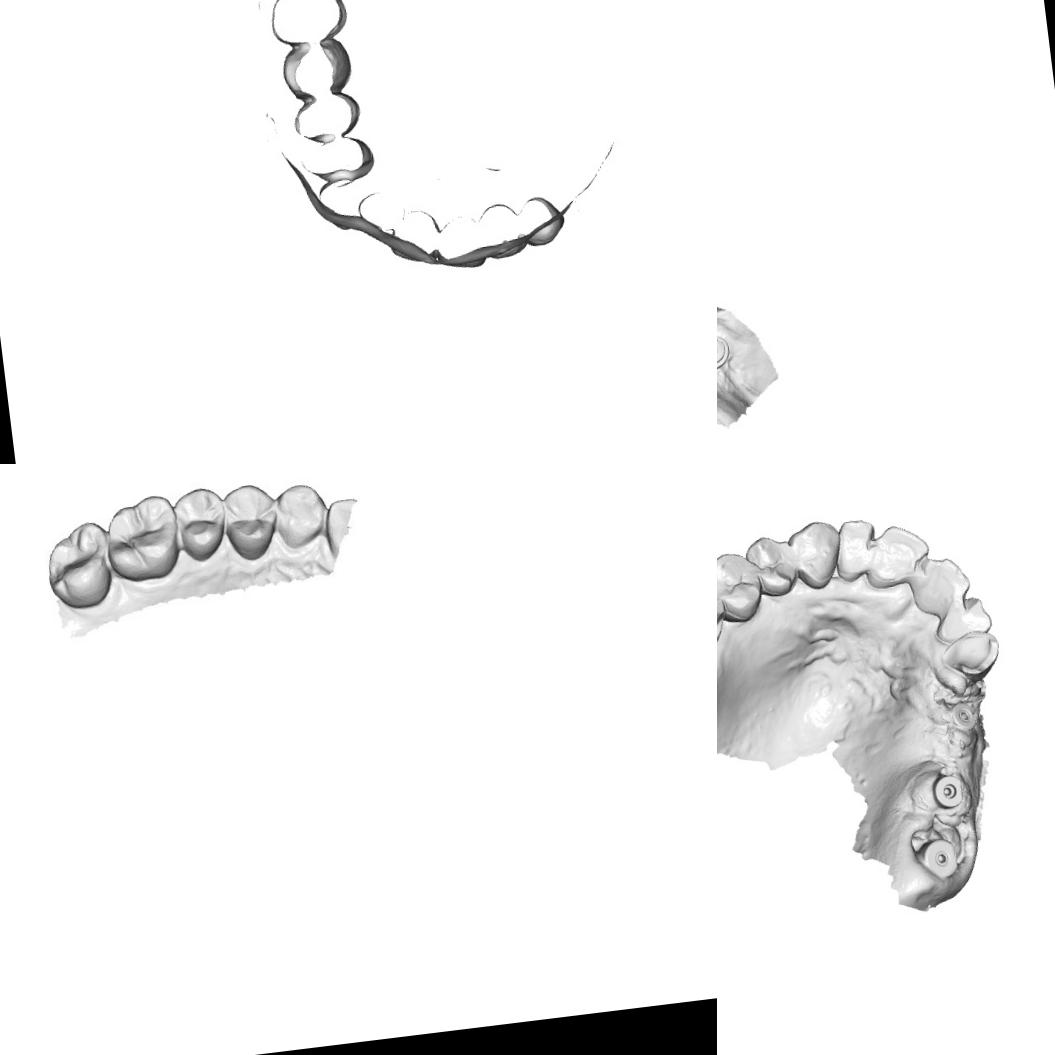canine: (784, 516, 848, 594), (272, 478, 333, 550), (937, 626, 1004, 681)
implant: (916, 835, 960, 882), (929, 771, 967, 812), (948, 698, 982, 734), (717, 330, 732, 373)
incisor: (864, 520, 934, 591), (910, 554, 974, 616), (930, 592, 995, 645), (832, 515, 881, 581)
molar: (98, 490, 184, 587), (42, 519, 114, 613)
premolar: (217, 478, 282, 563), (169, 483, 230, 566), (742, 531, 800, 602), (717, 548, 766, 627)
